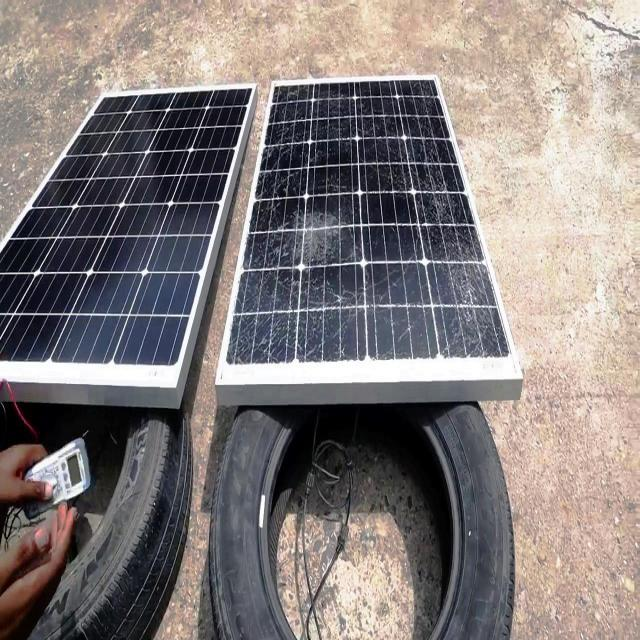faulty: (228, 76, 516, 378)
no faulty: (1, 82, 257, 381)
